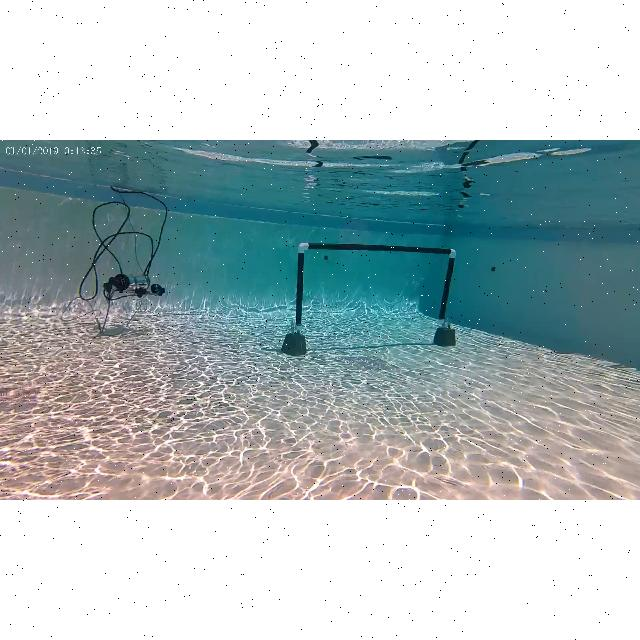prequal gate: (296, 242, 456, 328)
prequal gate leg l: (282, 242, 310, 358), (434, 247, 456, 349)
